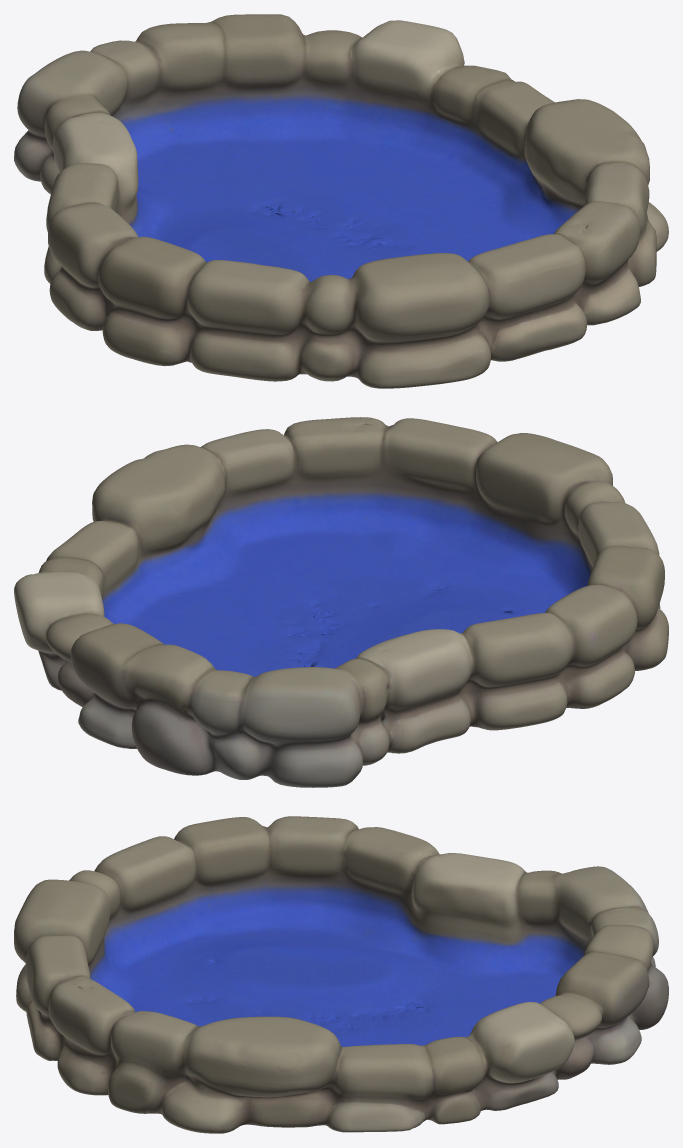
Rendered from tripo_convert_9a580ad8-0356-4a32-99a8-372a66f3f74a.fbx.
The picture shows the model from 3 angles, top to bottom: view 1: azimuth 30°, elevation 25°; view 2: azimuth 150°, elevation 25°; view 3: azimuth 270°, elevation 25°; orthographic projection. The views are drawn at different scales.
Visible parts, largest first — view 1: tripo_node_9a580ad8; view 2: tripo_node_9a580ad8; view 3: tripo_node_9a580ad8.
Boxes of the visible parts, bbox=[...] form: tripo_node_9a580ad8: bbox=[14, 14, 668, 388]; tripo_node_9a580ad8: bbox=[14, 417, 668, 787]; tripo_node_9a580ad8: bbox=[14, 816, 668, 1133].
Bounding box in the file's own units: 0.8793 × 0.16 × 0.9996.
Materials: 1 (1 with a texture image).
